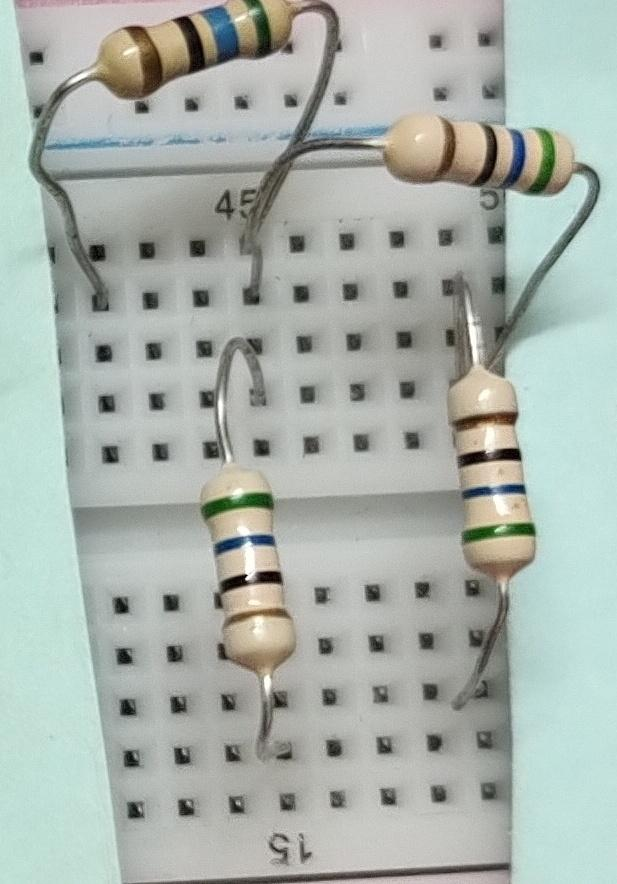resistor: (192, 452, 308, 698), (434, 365, 552, 589), (90, 0, 321, 114), (374, 102, 586, 201)
